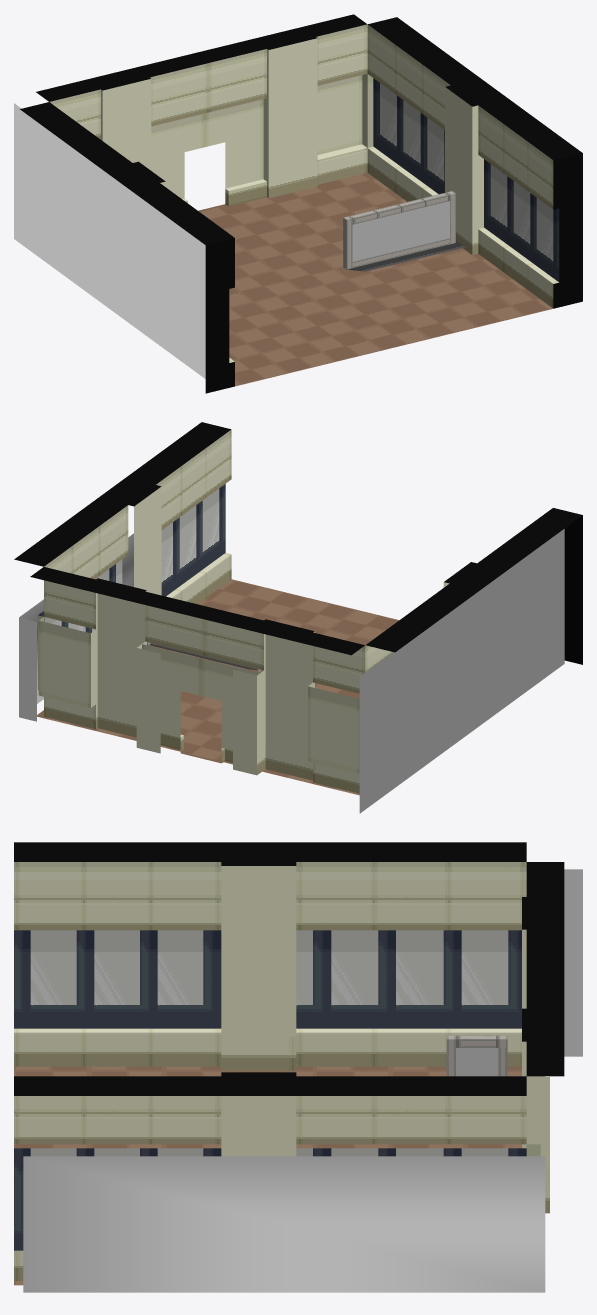
File: ROOM14.obj
The picture shows the model from 3 angles, top to bottom: view 1: azimuth 30°, elevation 25°; view 2: azimuth 150°, elevation 25°; view 3: azimuth 270°, elevation 25°; orthographic projection. The views are drawn at different scales.
Visible parts, largest first — view 1: polygon5, polygon3, polygon6, polygon4, polygon1, polygon0, polygon2; view 2: polygon5, polygon6, polygon4, polygon3; view 3: polygon5, polygon6, polygon4, polygon3, polygon0, polygon1.
Part boxes in pixels (box(x1,y1,x2,y2)): polygon5: box(49, 24, 559, 362); polygon3: box(198, 172, 552, 386); polygon6: box(14, 103, 205, 378); polygon4: box(20, 14, 582, 393); polygon1: box(352, 201, 449, 261); polygon0: box(343, 191, 455, 269); polygon2: box(347, 240, 465, 271); polygon5: box(38, 429, 449, 793); polygon6: box(19, 529, 564, 813); polygon4: box(14, 422, 582, 664); polygon3: box(37, 579, 399, 795); polygon5: box(14, 862, 549, 1280); polygon6: box(23, 869, 582, 1292); polygon4: box(14, 842, 564, 1095); polygon3: box(14, 1066, 521, 1285); polygon0: box(446, 1035, 507, 1076); polygon1: box(456, 1048, 498, 1076).
Size of the model in its own units: 3.99 by 1.5 by 3.78.
